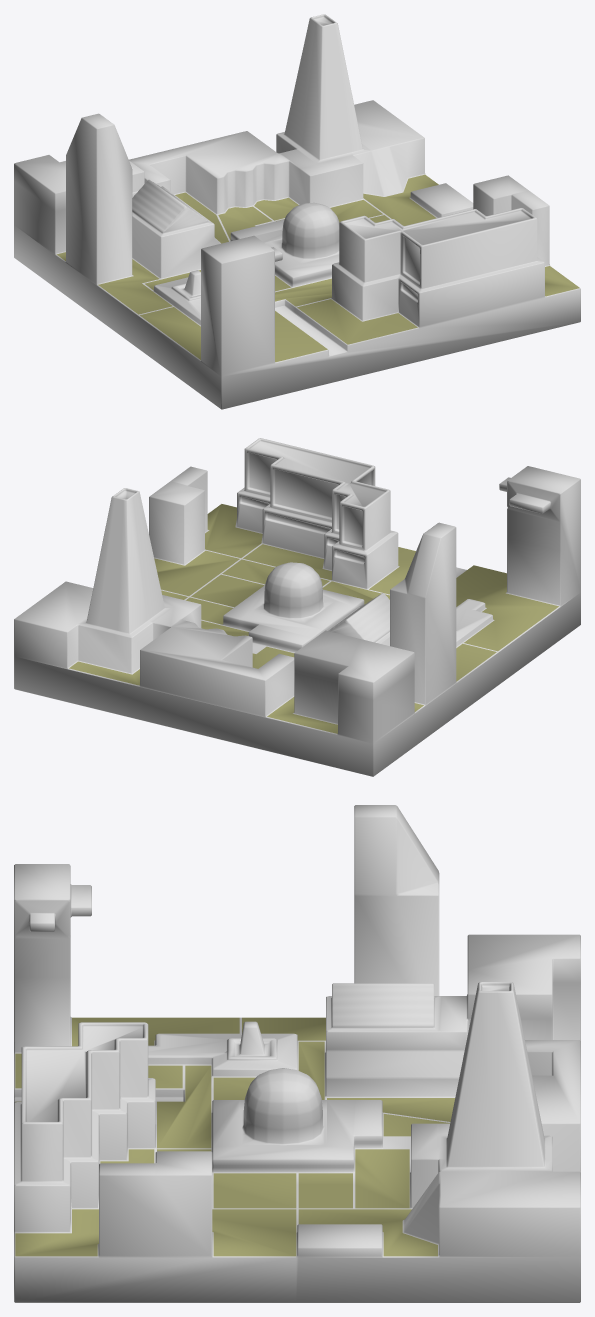
3 views of the same model, one above another, from view 1: azimuth 30°, elevation 25°; view 2: azimuth 150°, elevation 25°; view 3: azimuth 270°, elevation 25° (orthographic). The views are drawn at different scales.
Parts seen in each view (by area): view 1: cube1_default, cube1_street; view 2: cube1_default, cube1_street; view 3: cube1_default, cube1_street.
Part boxes in pixels (x1,y1,x2,y2): cube1_default: (14, 14, 580, 409); cube1_street: (56, 174, 579, 361); cube1_default: (14, 438, 580, 776); cube1_street: (69, 504, 558, 733); cube1_default: (14, 805, 580, 1302); cube1_street: (15, 1017, 455, 1256).
Bounding box in the file's own units: 22 × 11.26 × 22.
